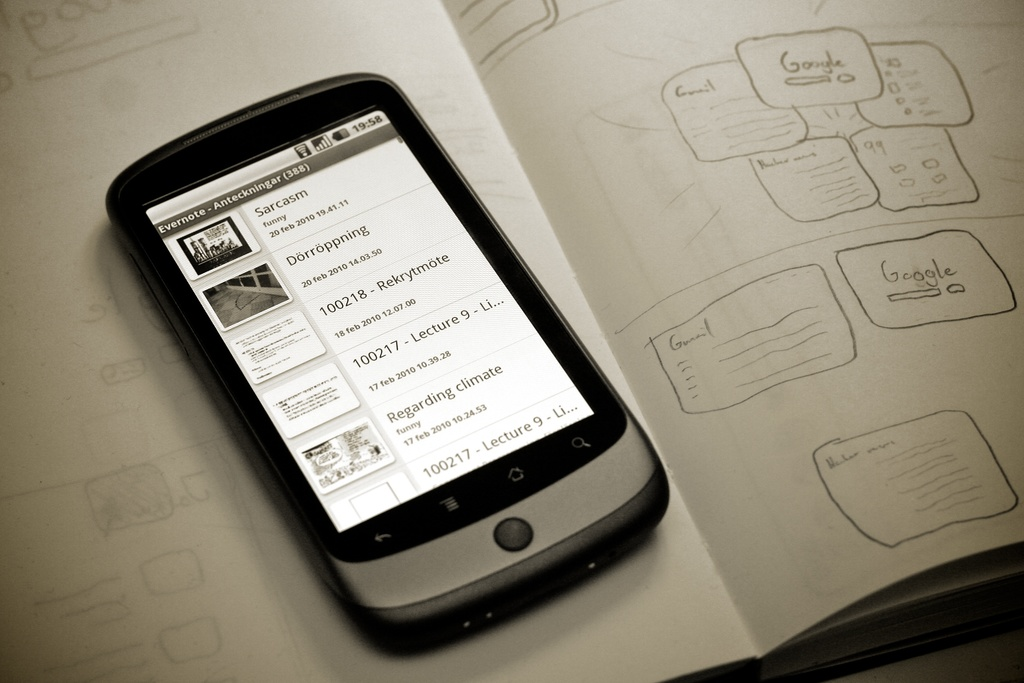Mobile-phone: (99, 72, 673, 653)
